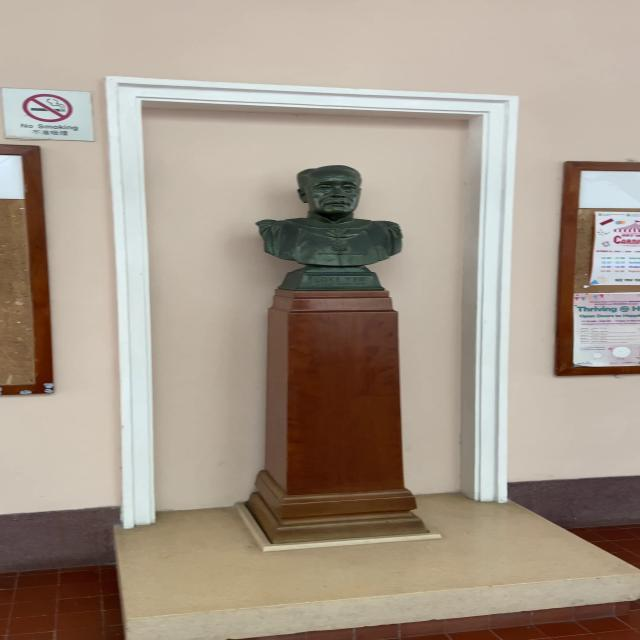statues: (244, 158, 418, 296)
